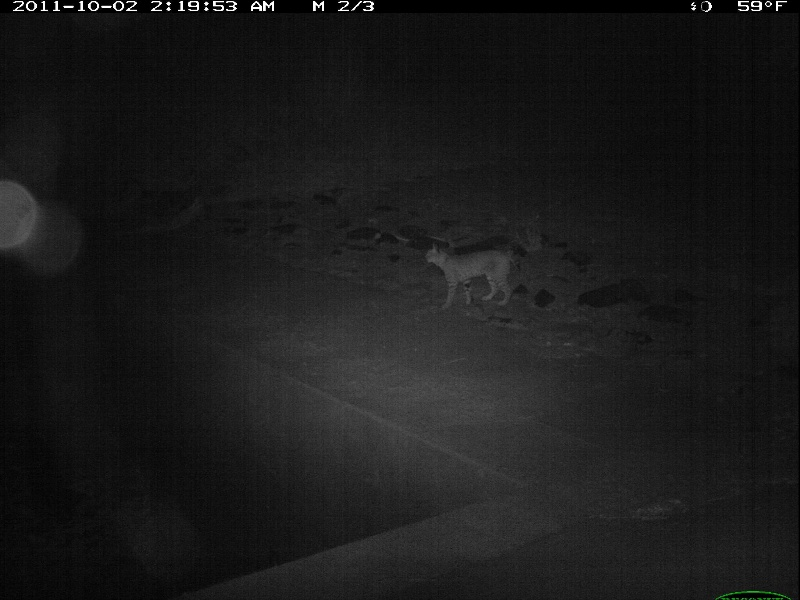cat: (422, 241, 529, 311)
